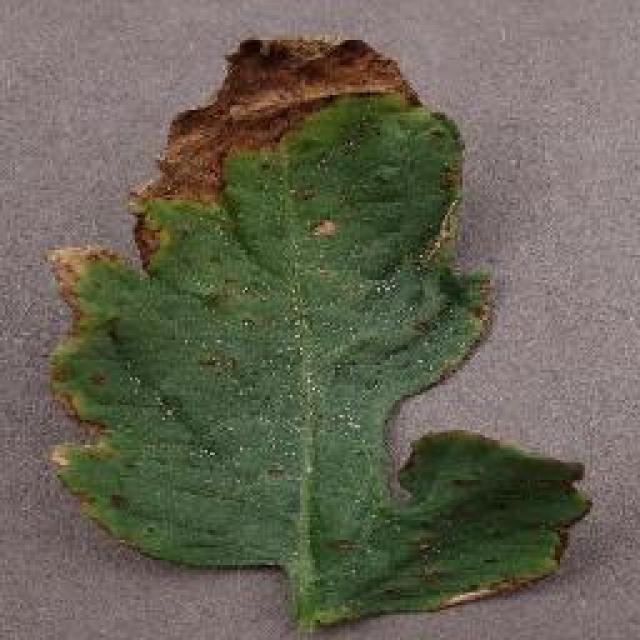Tomato bacterial spot leaf: (35, 27, 595, 640)
